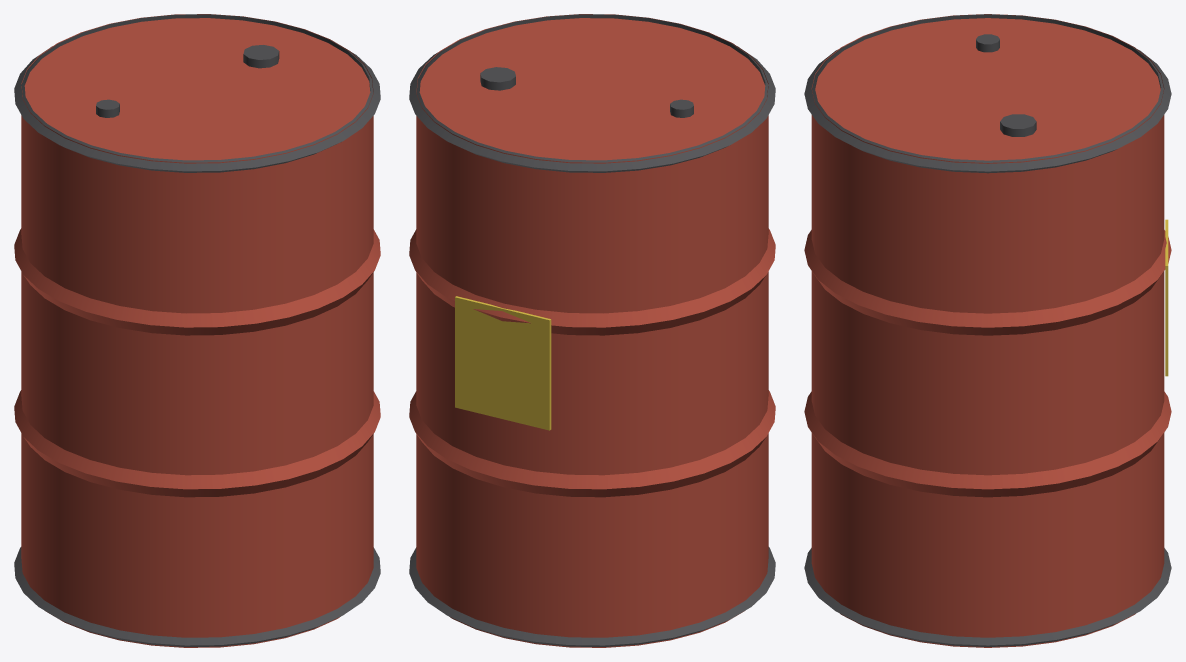
File: drum.glb
The picture shows the model from 3 angles, left to right: view 1: azimuth 30°, elevation 25°; view 2: azimuth 150°, elevation 25°; view 3: azimuth 270°, elevation 25°; orthographic projection.
Parts seen in each view (by area): view 1: Part; view 2: Part; view 3: Part.
Boxes of the visible parts, <box> form: Part: <box>14,14,380,647</box>; Part: <box>409,14,775,647</box>; Part: <box>804,14,1171,647</box>.
Size of the model in its own units: 0.604 by 0.892 by 0.604.
